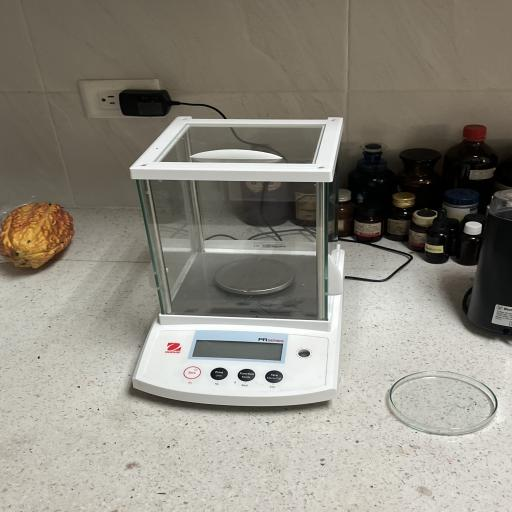Balanza_Analitica_Ohaus: (115, 107, 373, 421)
